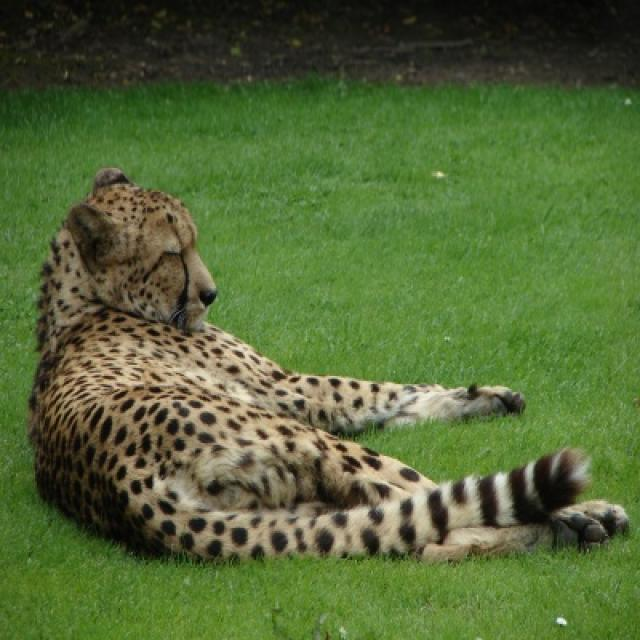Cheetah: (29, 168, 627, 560)
